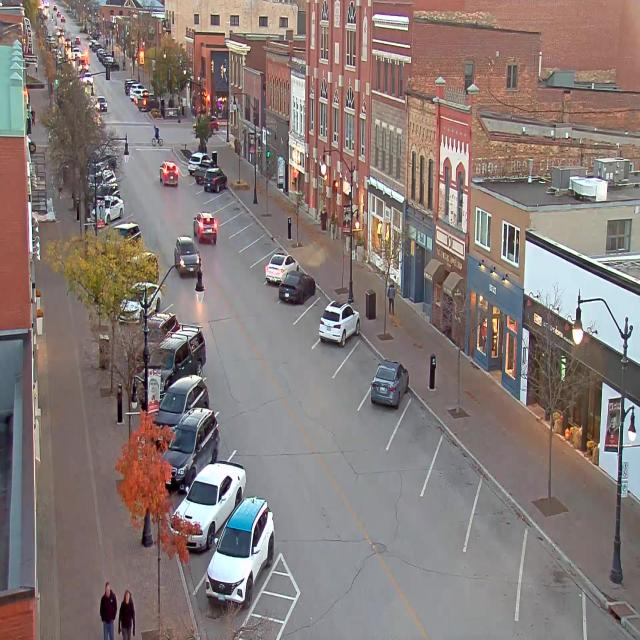available: (512, 544, 590, 639), (462, 474, 531, 578), (426, 446, 478, 530), (392, 393, 445, 468), (578, 588, 639, 639), (339, 333, 382, 392), (301, 291, 330, 332), (230, 226, 255, 246), (242, 240, 264, 262), (249, 259, 269, 279), (224, 214, 244, 233), (207, 194, 228, 211), (214, 206, 233, 220)
occupied: (171, 460, 246, 552), (210, 491, 276, 593), (150, 374, 210, 446), (173, 407, 220, 466), (162, 318, 208, 373), (318, 299, 360, 346), (370, 358, 408, 409), (278, 268, 315, 304), (266, 254, 288, 288), (203, 165, 227, 192), (187, 151, 206, 174), (194, 157, 206, 184)
